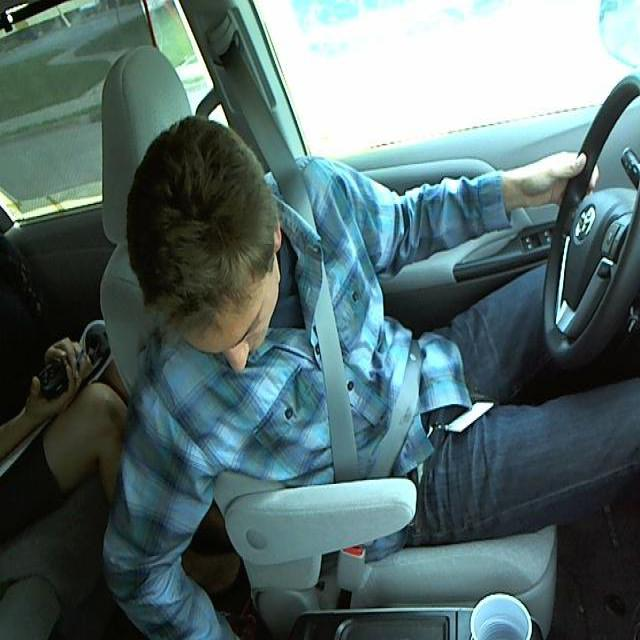seatbelt: (283, 211, 425, 493)
